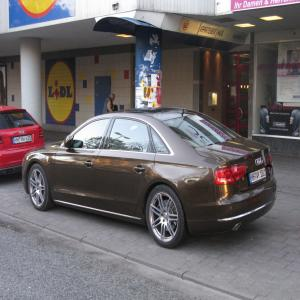Vehicle-registration-plate: (249, 168, 269, 187), (13, 136, 33, 145)
